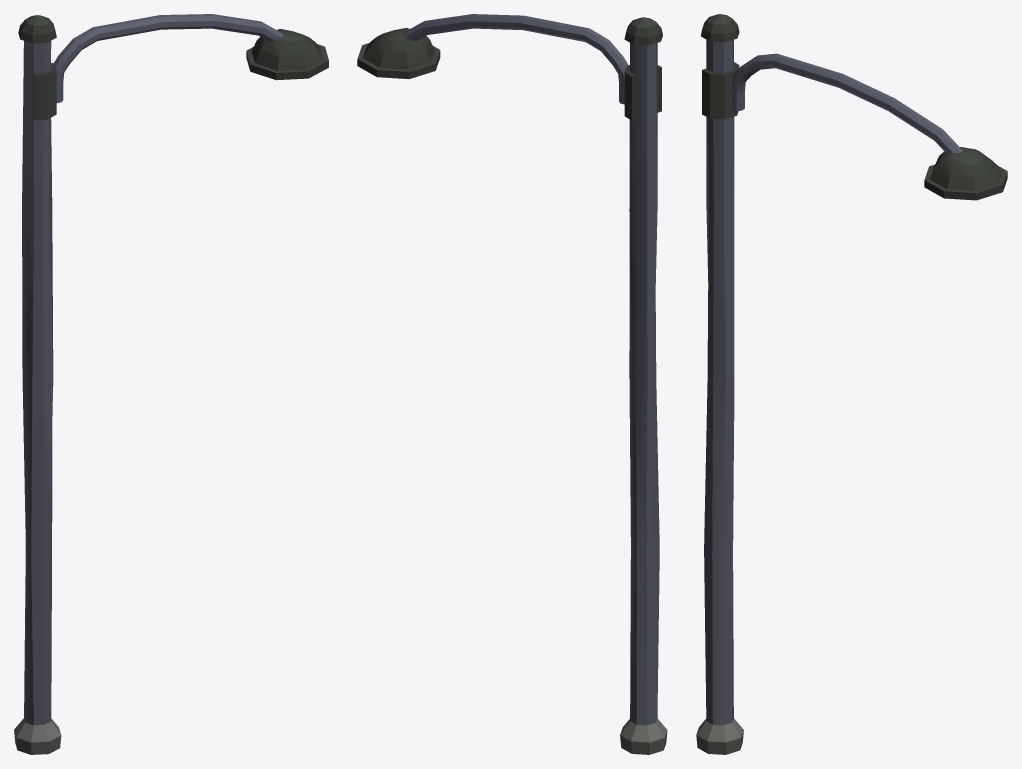
The model's file is Street_Light.glb.
3 renders of one model, left to right at view 1: azimuth 30°, elevation 25°; view 2: azimuth 150°, elevation 25°; view 3: azimuth 330°, elevation 25°, orthographic.
Parts seen in each view (by area): view 1: streetlight; view 2: streetlight; view 3: streetlight.
Boxes of the visible parts, x1,y1,x2,y2 form: streetlight: (14, 14, 328, 754); streetlight: (357, 14, 667, 754); streetlight: (696, 14, 1007, 754).
Size of what is drawn, in the model's own units: 2.1 by 4.79 by 0.5104.
1 material, 1 textured.
